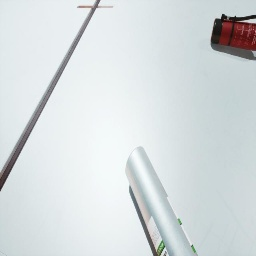0: (125, 146, 198, 256)
FireExtinguisher ]: (210, 13, 256, 51)
